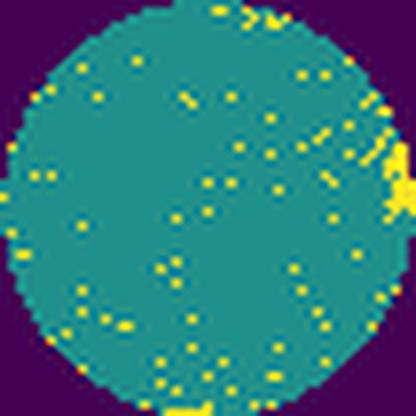Edge-Loc: (378, 138, 416, 226)
